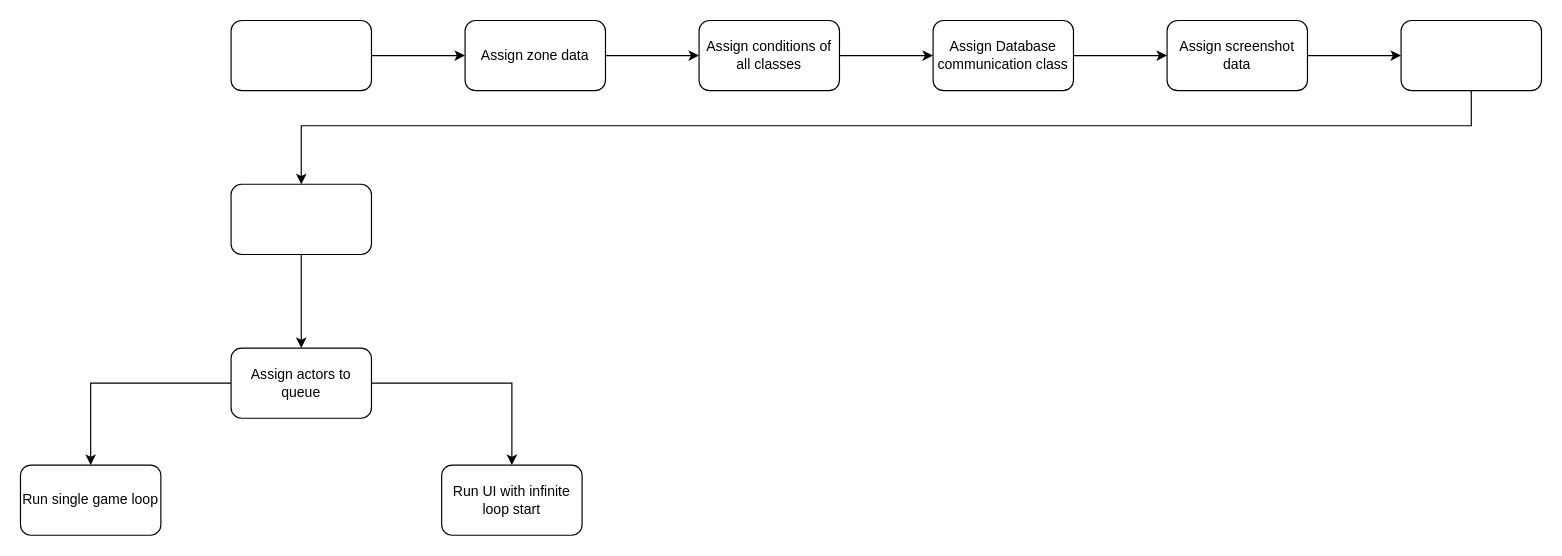
Image size: 1562x556. Some labels were removed from this diagram. Here are the shapes that lost their labels. From the top down, the centre of each, then its label:
At point (300, 55): "Create game bot".
At point (1470, 55): "Assign queue processor class".
At point (300, 218): "Create actors".
